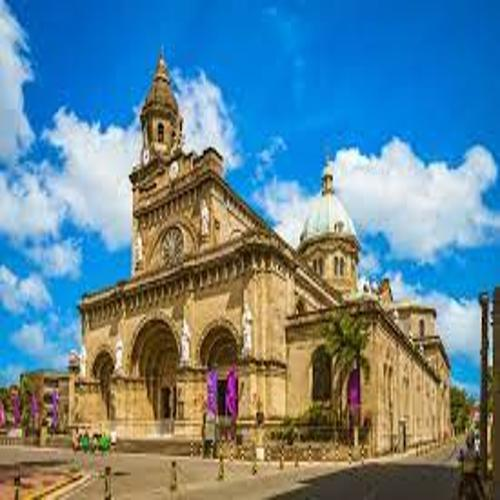Manila Cathedral Church: (66, 41, 455, 466)
